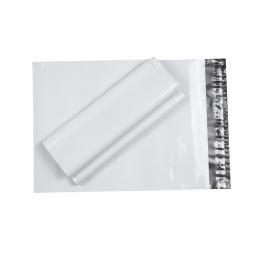塑料袋: (32, 58, 230, 193)
